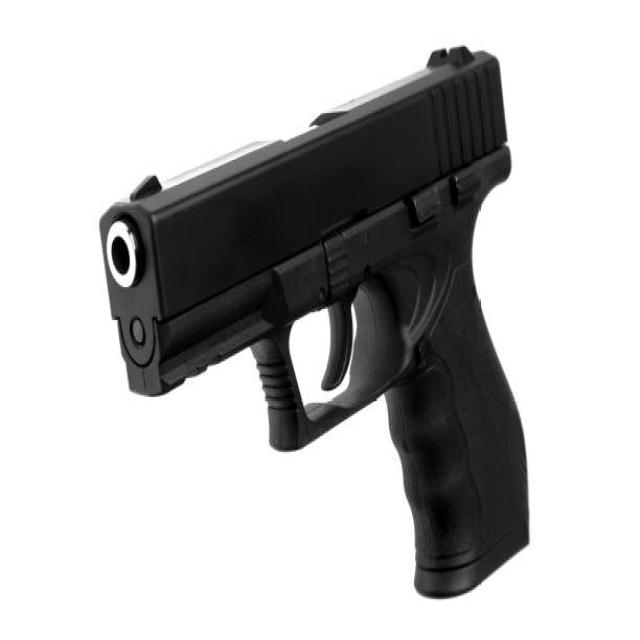pistol: (89, 28, 540, 609)
